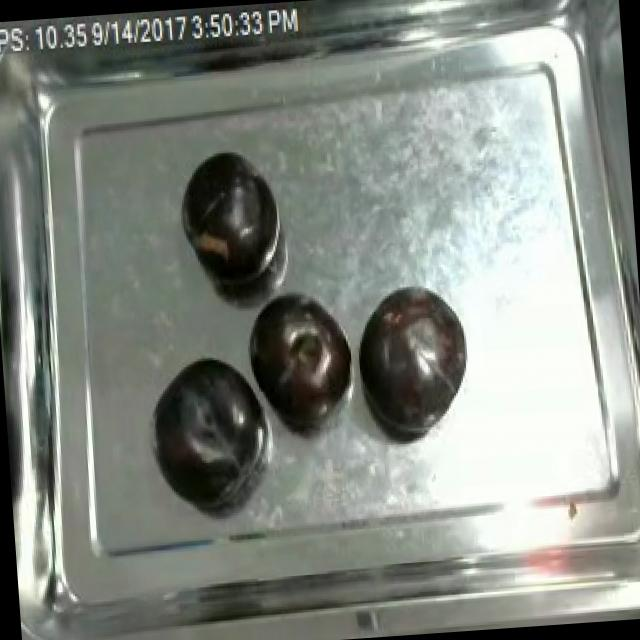Fruit: (349, 274, 478, 442), (144, 348, 274, 508), (240, 286, 358, 434), (176, 148, 275, 290)
